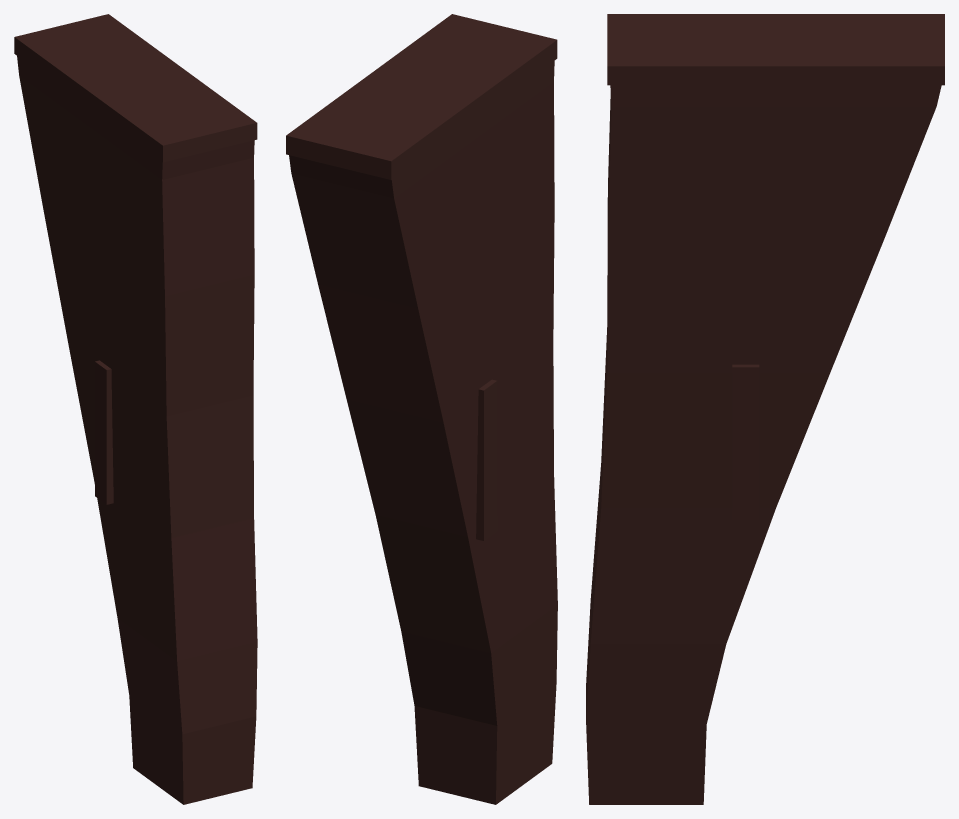
Rendered from ak_stock_fixed.glb.
3 views of the same model, side by side, from view 1: azimuth 30°, elevation 25°; view 2: azimuth 150°, elevation 25°; view 3: azimuth 270°, elevation 25° (orthographic). The views are drawn at different scales.
Parts seen in each view (by area): view 1: st_body, st_buttplate, st_sling_slot; view 2: st_body, st_buttplate, st_sling_slot; view 3: st_body, st_buttplate, st_sling_slot.
Part boxes in pixels (left/top/right/bottom): st_body: left=17, top=56, right=257, bottom=804; st_buttplate: left=14, top=14, right=257, bottom=162; st_sling_slot: left=95, top=360, right=113, bottom=504; st_body: left=289, top=61, right=557, bottom=804; st_buttplate: left=286, top=14, right=557, bottom=179; st_sling_slot: left=476, top=379, right=497, bottom=540; st_body: left=586, top=85, right=941, bottom=804; st_buttplate: left=607, top=14, right=944, bottom=85; st_sling_slot: left=732, top=364, right=759, bottom=520.
Size of the model in its own units: 0.042 by 0.273 by 0.119.
